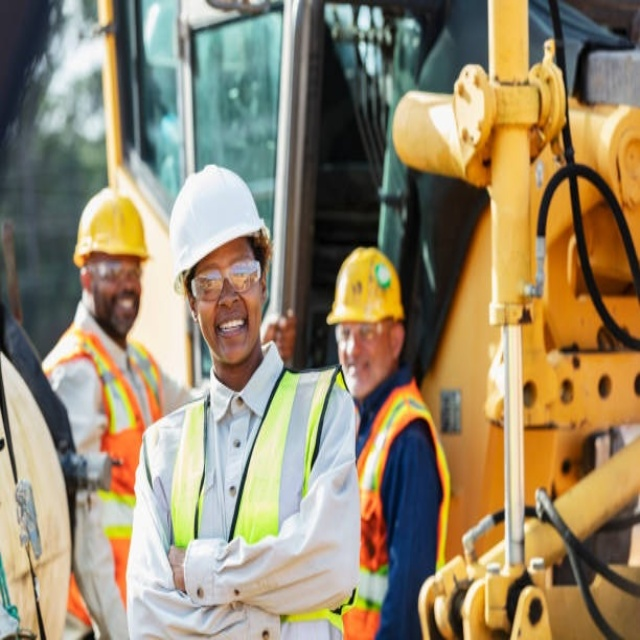Gafas: (190, 260, 263, 302), (335, 321, 391, 349), (85, 259, 142, 282)
Sin_guantes: (261, 307, 298, 359)
Sin_mascara: (213, 309, 250, 347), (343, 353, 379, 386), (109, 287, 140, 318)
